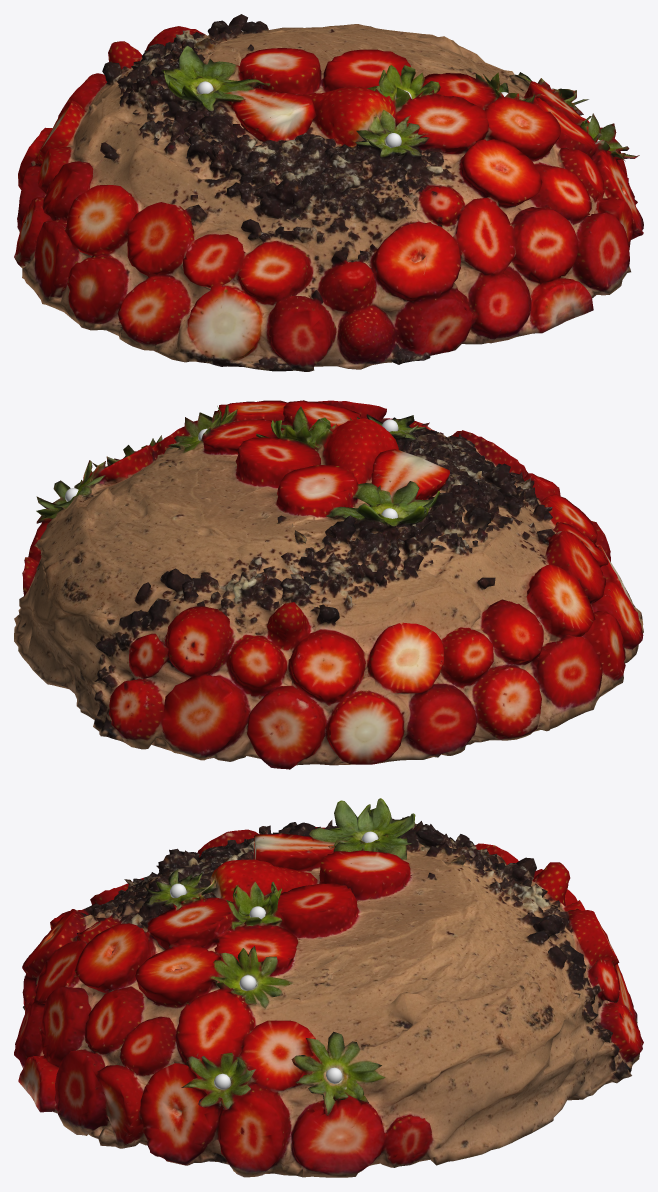
The model's file is cake-v3-2k.gltf.
3 renders of one model, top to bottom at view 1: azimuth 30°, elevation 25°; view 2: azimuth 150°, elevation 25°; view 3: azimuth 270°, elevation 25°, orthographic. The views are drawn at different scales.
Visible parts, largest first — view 1: strawberry_chocolate_cake; view 2: strawberry_chocolate_cake; view 3: strawberry_chocolate_cake.
Boxes of the visible parts, box(x1,y1,x2,y2) form: strawberry_chocolate_cake: box(14, 14, 643, 371); strawberry_chocolate_cake: box(14, 400, 643, 769); strawberry_chocolate_cake: box(14, 798, 643, 1177).
Bounding box in the file's own units: 0.2443 × 0.0792 × 0.2403.
1 material, 1 textured.
